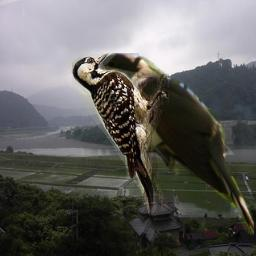Cuckoo: (71, 53, 254, 235)
Woodpecker: (72, 53, 169, 216)
